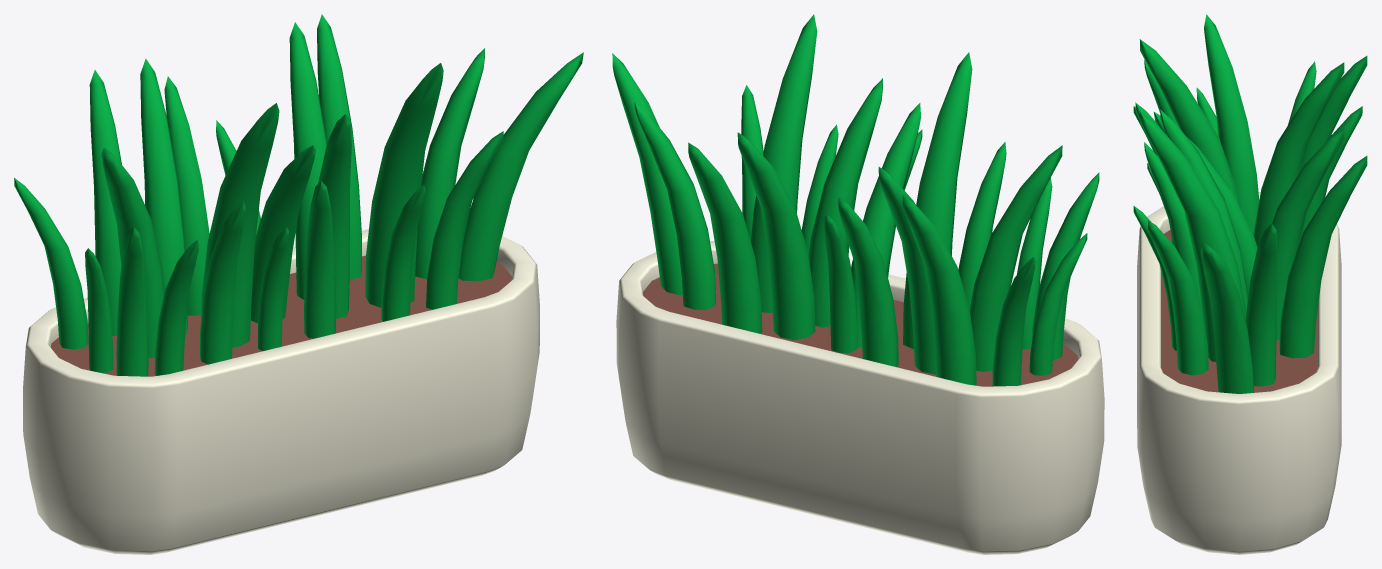
Rendered from Town_10_Plant_1.glb.
3 renders of one model, left to right at view 1: azimuth 30°, elevation 25°; view 2: azimuth 150°, elevation 25°; view 3: azimuth 270°, elevation 25°, orthographic. The views are drawn at different scales.
Parts seen in each view (by area): view 1: Town_10_Plant_1; view 2: Town_10_Plant_1; view 3: Town_10_Plant_1.
Part boxes in pixels (bbox=[...]): Town_10_Plant_1: bbox=[14, 14, 583, 554]; Town_10_Plant_1: bbox=[612, 14, 1104, 554]; Town_10_Plant_1: bbox=[1133, 14, 1367, 554].
Size of the model in its own units: 0.801 by 0.6326 by 0.3415.
Materials: 1 (1 with a texture image).
